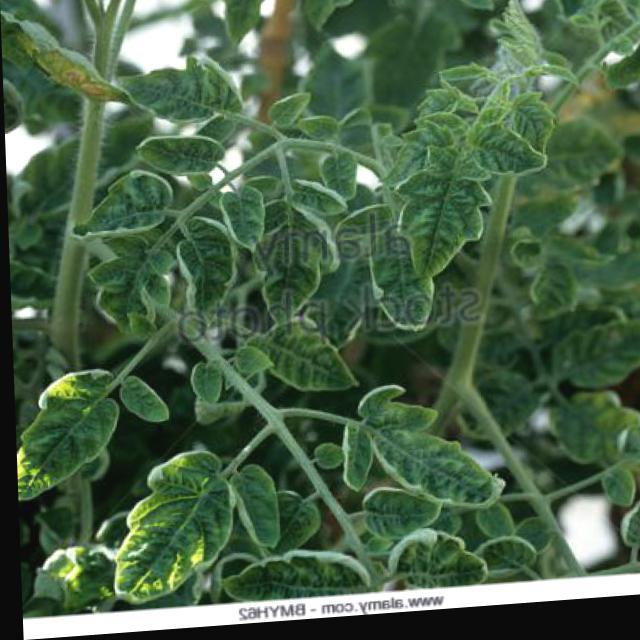Tomato healthy leaf: (66, 446, 238, 626), (317, 383, 498, 532), (12, 349, 124, 525), (382, 130, 491, 306), (356, 526, 544, 614), (244, 194, 344, 348), (40, 170, 180, 248), (358, 222, 437, 356), (162, 215, 244, 341), (248, 314, 360, 401), (205, 463, 296, 561), (456, 126, 544, 199), (197, 182, 273, 258), (120, 130, 216, 184)
